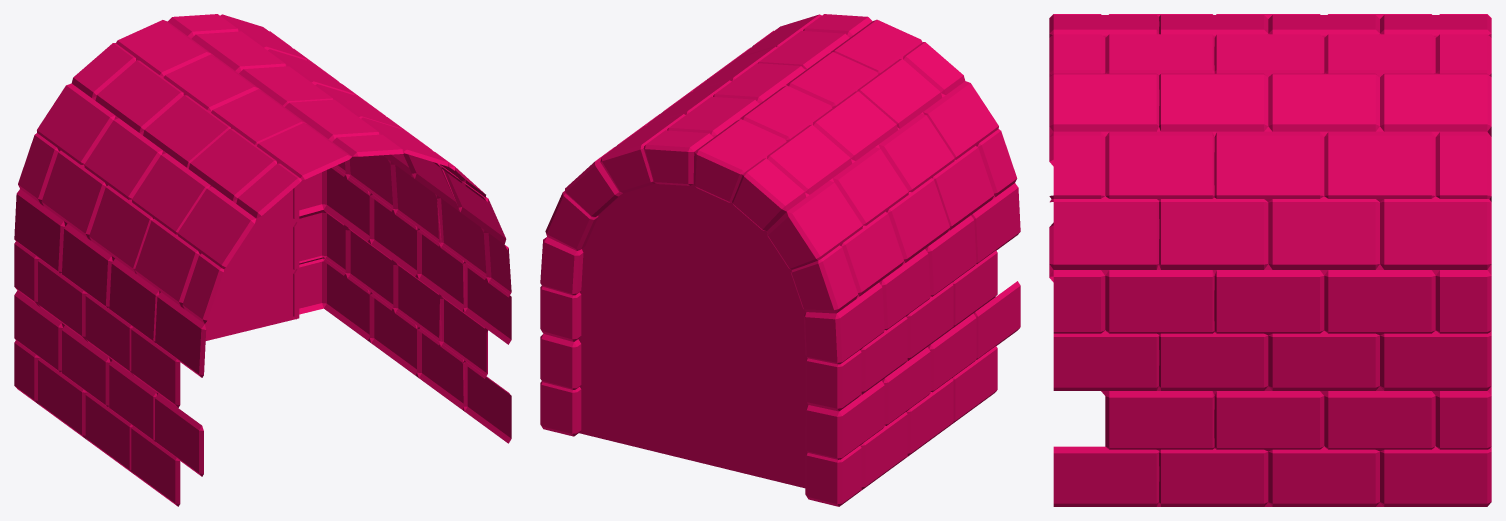
The model's file is Igloo door.fbx.
3 views of the same model, side by side, from view 1: azimuth 30°, elevation 25°; view 2: azimuth 150°, elevation 25°; view 3: azimuth 270°, elevation 25° (orthographic). The views are drawn at different scales.
Visible parts, largest first — view 1: Cube.003; view 2: Cube.003; view 3: Cube.003.
Boxes of the visible parts, bbox=[...] form: Cube.003: bbox=[14, 14, 511, 506]; Cube.003: bbox=[540, 14, 1020, 506]; Cube.003: bbox=[1049, 14, 1491, 506].
Bounding box in the file's own units: 1.77 × 1.81 × 1.85.
